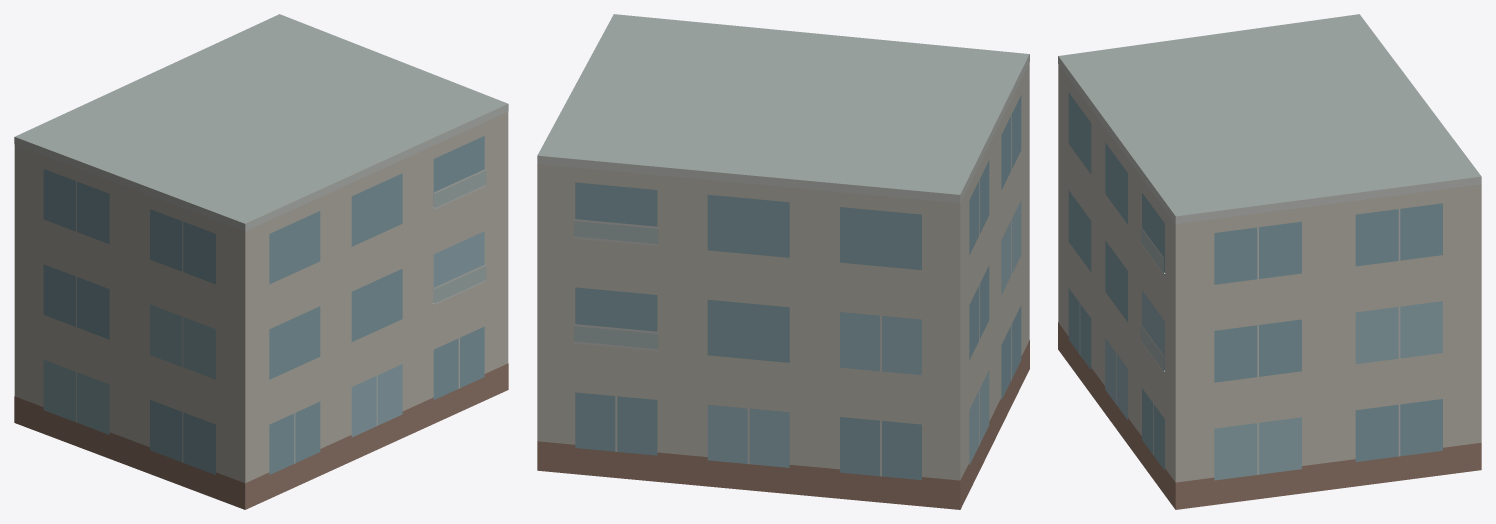
Rendered from survey-upis-32613302.glb.
3 views of the same model, side by side, from view 1: azimuth 30°, elevation 25°; view 2: azimuth 150°, elevation 25°; view 3: azimuth 270°, elevation 25° (orthographic). The views are drawn at different scales.
Visible parts, largest first — view 1: survey-upis-32613302.tmp; view 2: survey-upis-32613302.tmp; view 3: survey-upis-32613302.tmp.
Boxes of the visible parts, x1,y1,x2,y2 form: survey-upis-32613302.tmp: (14, 14, 508, 509); survey-upis-32613302.tmp: (537, 14, 1029, 509); survey-upis-32613302.tmp: (1058, 14, 1481, 509).
Bounding box in the file's own units: 13.54 × 9.15 × 11.98.
